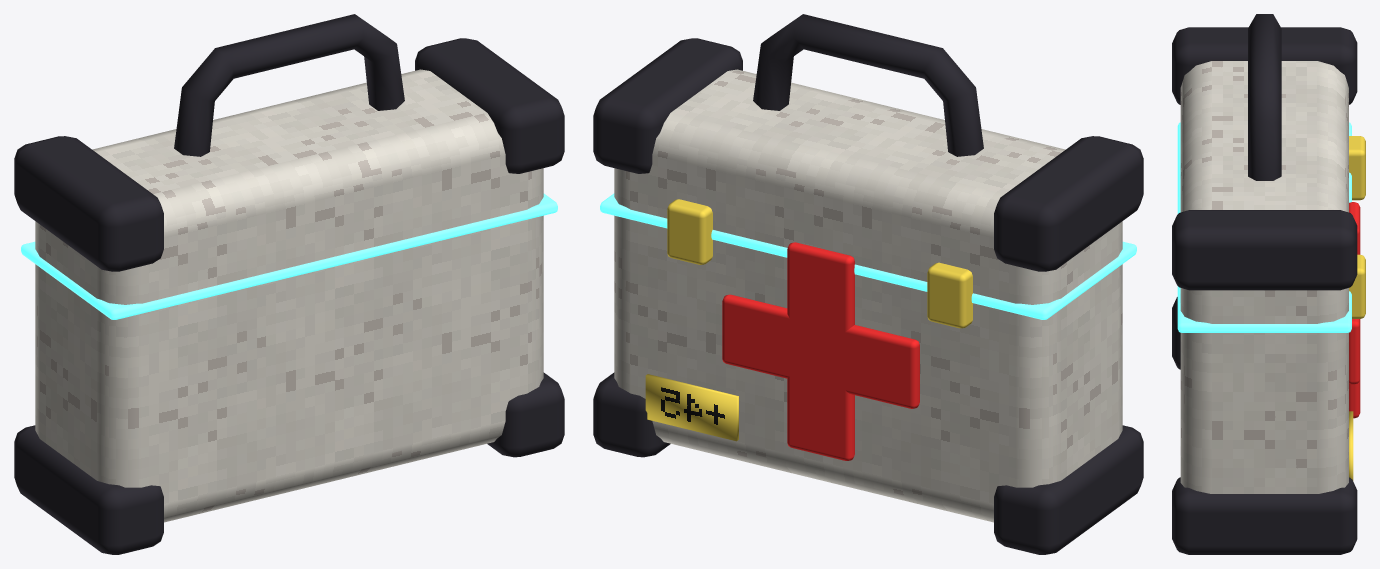
Rendered from x_medkit.glb.
The picture shows the model from 3 angles, left to right: view 1: azimuth 30°, elevation 25°; view 2: azimuth 150°, elevation 25°; view 3: azimuth 270°, elevation 25°; orthographic projection. The views are drawn at different scales.
Parts seen in each view (by area): view 1: kit; view 2: kit; view 3: kit.
Boxes of the visible parts, left/top/right/bottom form: kit: left=14, top=14, right=564, bottom=554; kit: left=593, top=14, right=1143, bottom=554; kit: left=1172, top=14, right=1365, bottom=554.
Bounding box in the file's own units: 0.358 × 0.3217 × 0.138.
6 materials, 2 textured.
